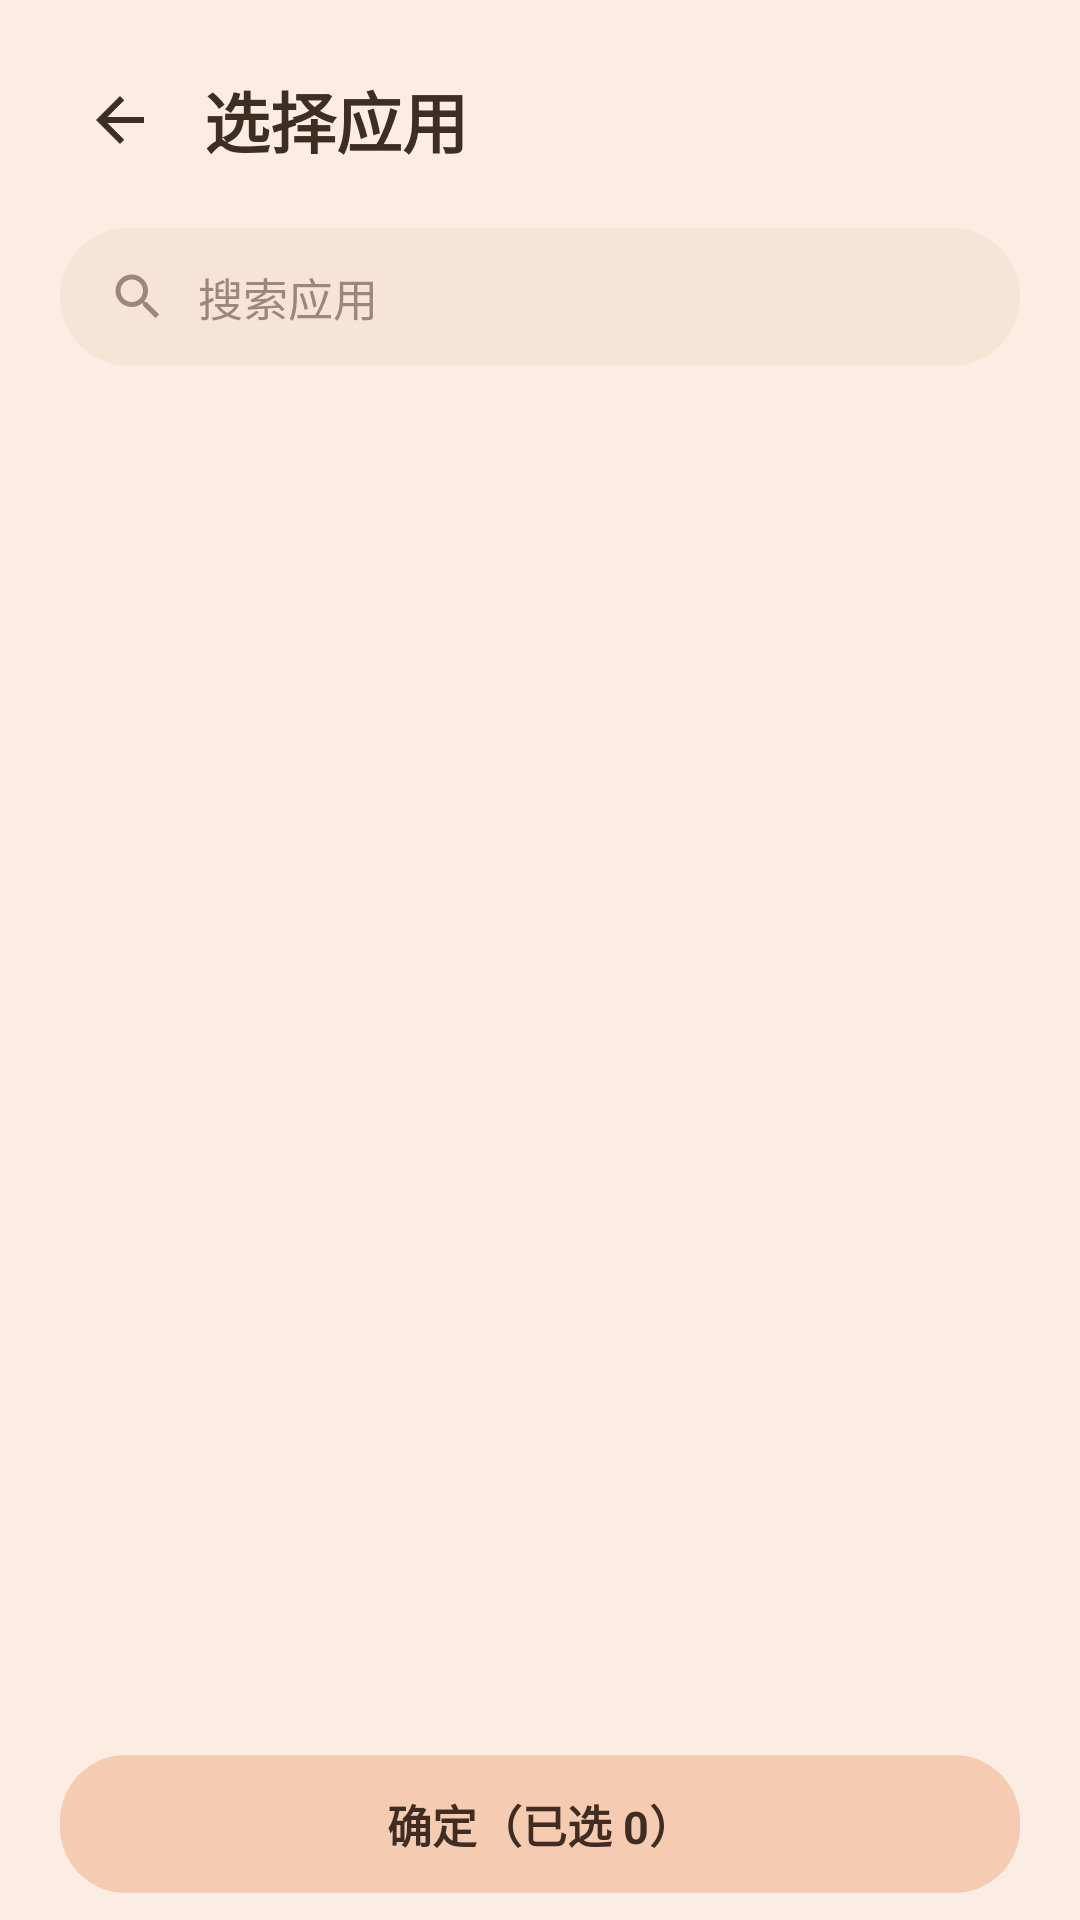

Locate icon controls on the screen. Image size 1080 x 1920, boxes as [x1=x1, y1=y1, x2=x2, y2=y2].
back: [x1=96, y1=96, x2=144, y2=144]
search: [x1=115, y1=274, x2=159, y2=318]
